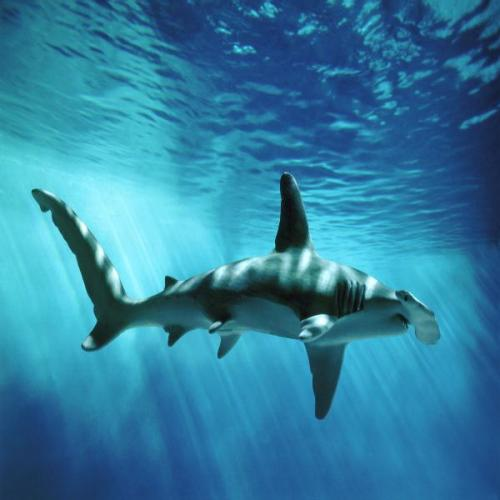shark-endangered: (31, 174, 445, 422)
